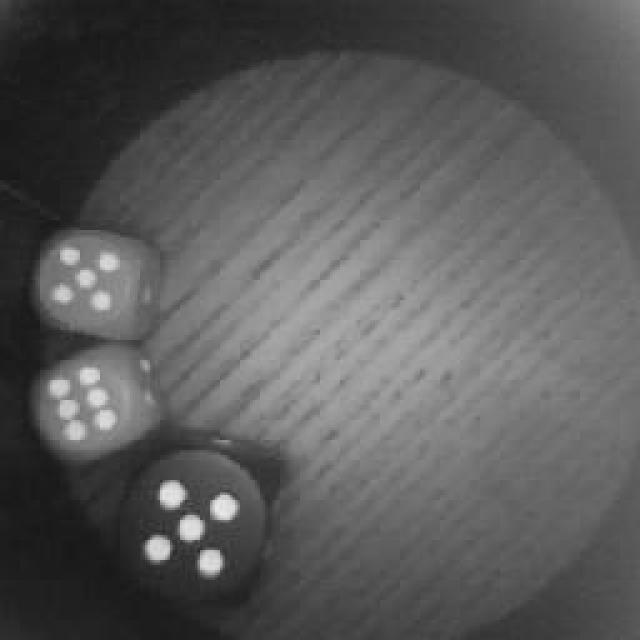dice_5: (117, 432, 285, 610), (32, 222, 152, 340)
dice_6: (32, 350, 150, 465)
